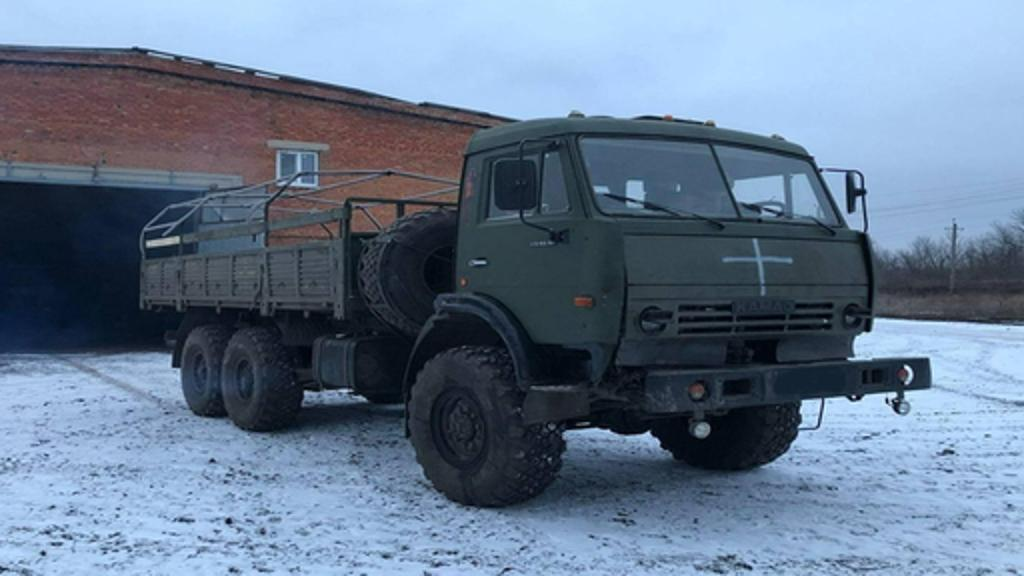TRUCK: (130, 110, 938, 512)
